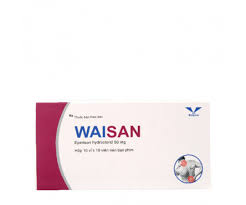Mekocefaclor: (73, 124, 140, 138)
